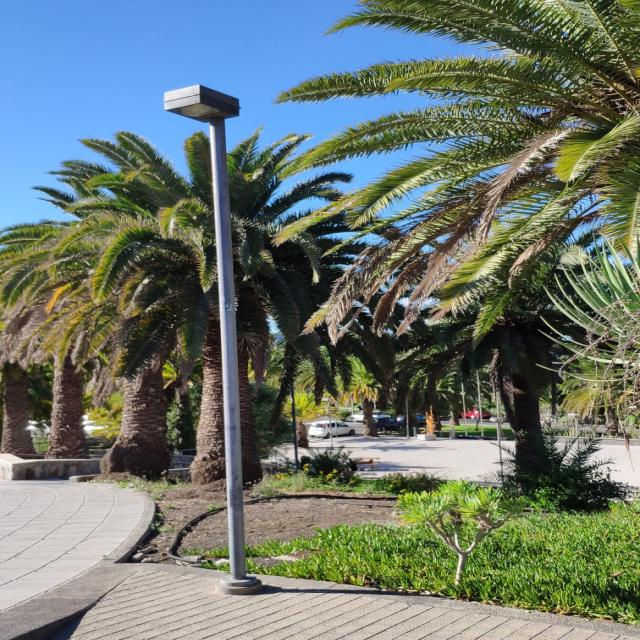Palm-Trees: (85, 134, 368, 482)
